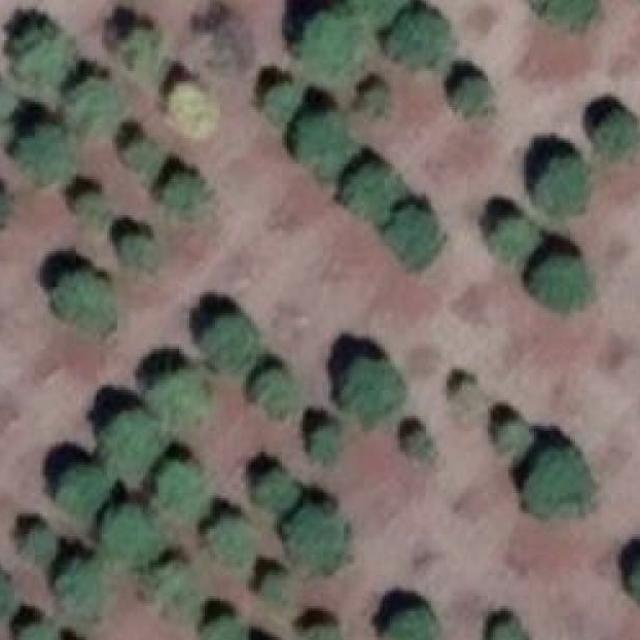Tree: (517, 444, 587, 520), (336, 359, 406, 425), (293, 15, 367, 76), (527, 253, 601, 313), (287, 514, 350, 582), (96, 501, 160, 565), (56, 280, 116, 345), (536, 154, 595, 220), (102, 416, 166, 476), (300, 115, 355, 183), (349, 162, 407, 224), (23, 125, 80, 188), (388, 213, 452, 269), (150, 369, 210, 428), (153, 460, 207, 522), (12, 35, 75, 87), (395, 14, 450, 73), (527, 0, 606, 40), (61, 563, 111, 624), (66, 76, 115, 136), (148, 568, 203, 619), (56, 465, 107, 517), (115, 25, 170, 70), (486, 213, 535, 263), (254, 374, 304, 423), (441, 76, 491, 124), (203, 315, 254, 362), (169, 83, 217, 132), (593, 108, 640, 154), (17, 529, 67, 570), (119, 234, 167, 276), (161, 174, 207, 217), (357, 81, 399, 128), (208, 524, 253, 566), (388, 606, 440, 640), (251, 472, 286, 520), (120, 138, 160, 178), (260, 86, 302, 122), (306, 426, 342, 467), (349, 0, 401, 28), (262, 570, 296, 612), (398, 431, 433, 464), (73, 192, 107, 224), (493, 422, 528, 451), (200, 619, 246, 640), (624, 554, 640, 612), (452, 383, 484, 408), (18, 621, 58, 640), (490, 621, 529, 640), (307, 623, 343, 640), (0, 186, 11, 232), (0, 564, 9, 611)
